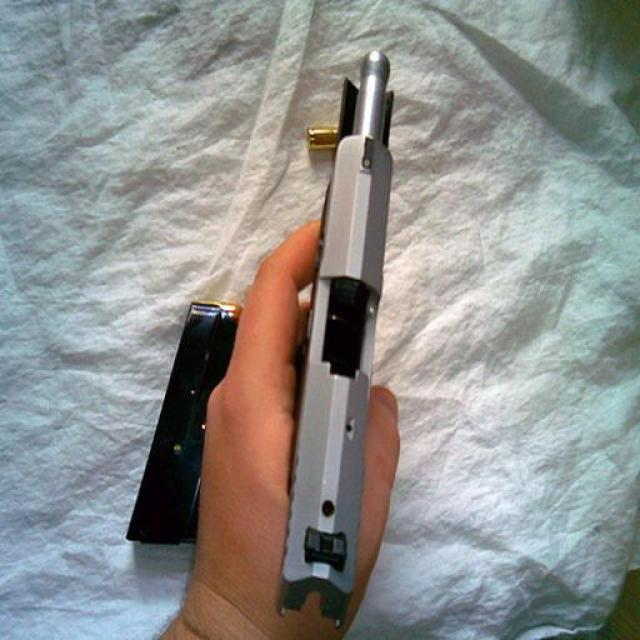pistol: (275, 47, 395, 617)
